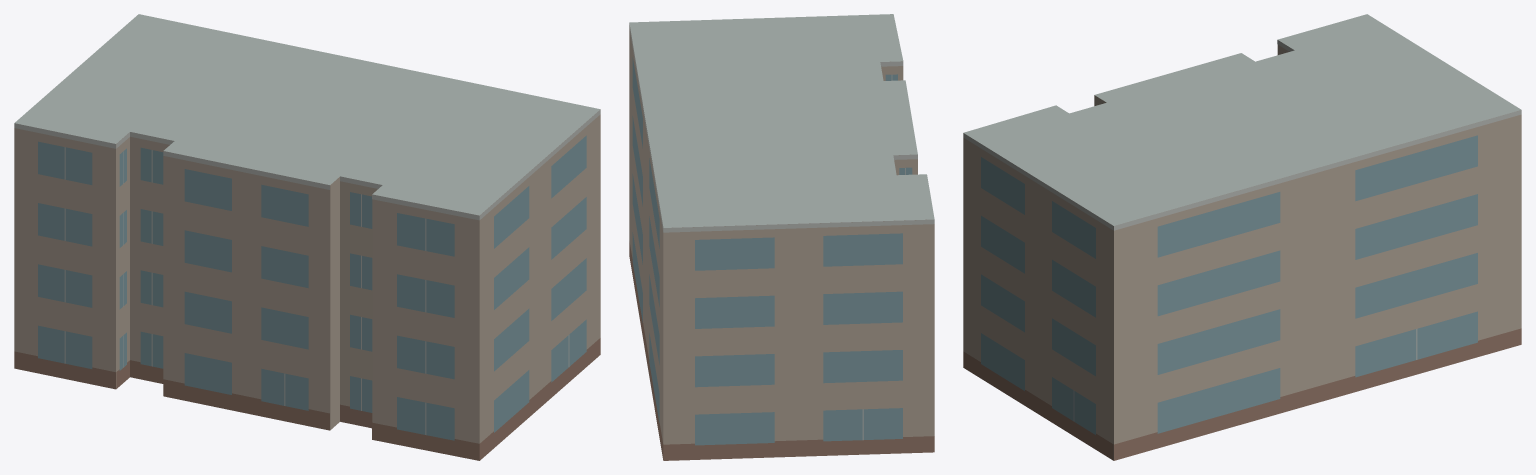
The model's file is survey-upis-33024473.glb.
3 views of the same model, side by side, from view 1: azimuth 30°, elevation 25°; view 2: azimuth 150°, elevation 25°; view 3: azimuth 270°, elevation 25° (orthographic). The views are drawn at different scales.
Parts seen in each view (by area): view 1: survey-upis-33024473.tmp; view 2: survey-upis-33024473.tmp; view 3: survey-upis-33024473.tmp.
Boxes of the visible parts, box(x1,y1,x2,y2) form: survey-upis-33024473.tmp: box(14, 14, 600, 460); survey-upis-33024473.tmp: box(629, 14, 934, 460); survey-upis-33024473.tmp: box(963, 14, 1521, 460).
Bounding box in the file's own units: 23.83 × 12.3 × 26.52.
